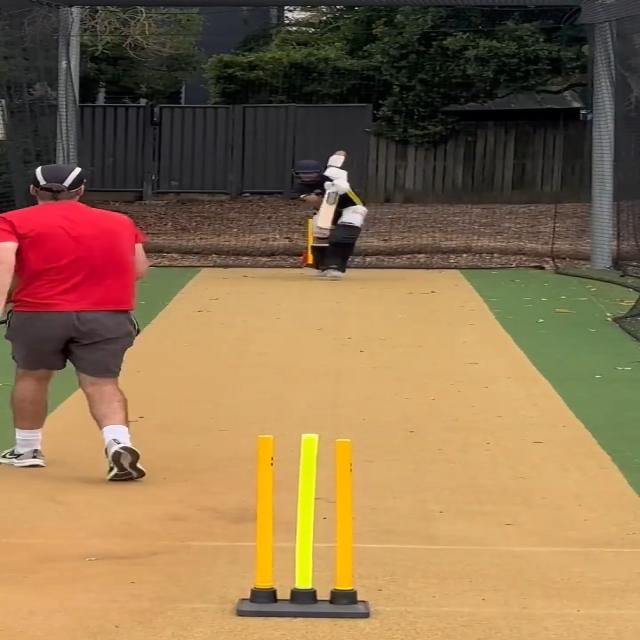stump: (232, 431, 372, 620)
